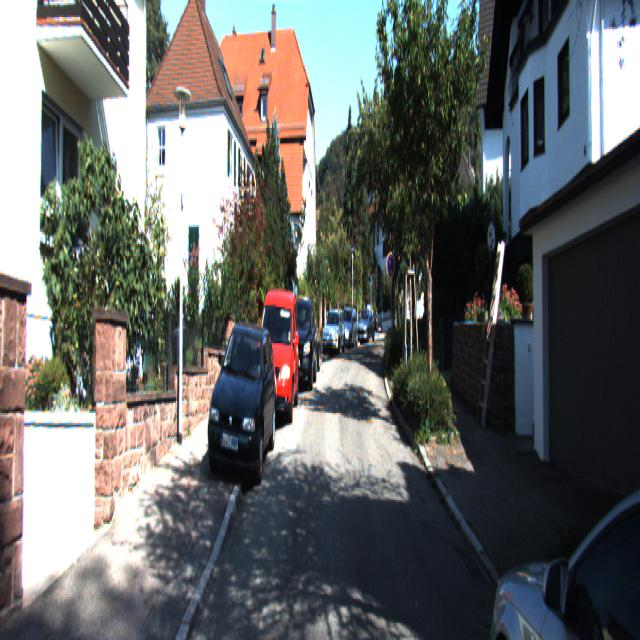Car: (485, 382, 639, 638), (205, 315, 276, 496), (252, 284, 300, 431), (283, 293, 317, 396), (322, 309, 345, 360)
